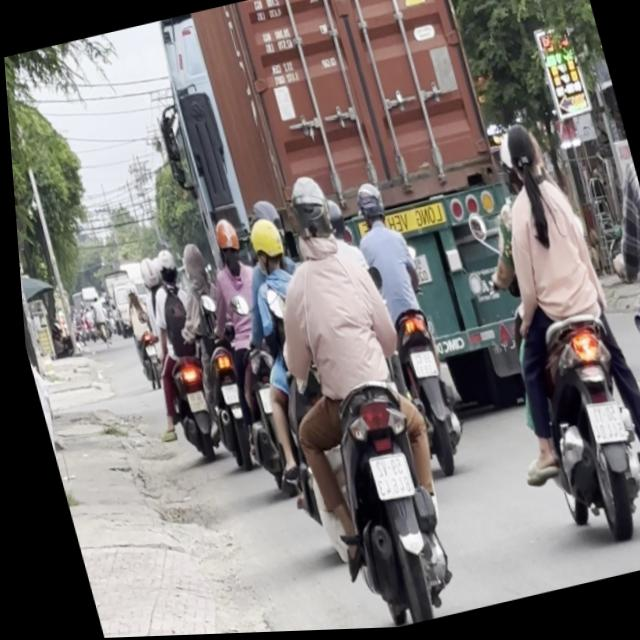helmet: (277, 170, 335, 251), (240, 214, 286, 276), (205, 216, 242, 270), (348, 180, 386, 231), (172, 240, 206, 286), (319, 192, 347, 243), (147, 245, 176, 285), (132, 254, 158, 290)
licenseplate: (212, 158, 468, 634), (430, 92, 640, 562), (337, 173, 467, 481), (185, 212, 311, 505), (117, 243, 227, 471), (161, 231, 254, 470)
motorcyclist: (496, 119, 545, 191)
nohelmet: (361, 453, 407, 505), (578, 402, 621, 451), (404, 350, 432, 381), (178, 389, 199, 414), (214, 384, 234, 405)
